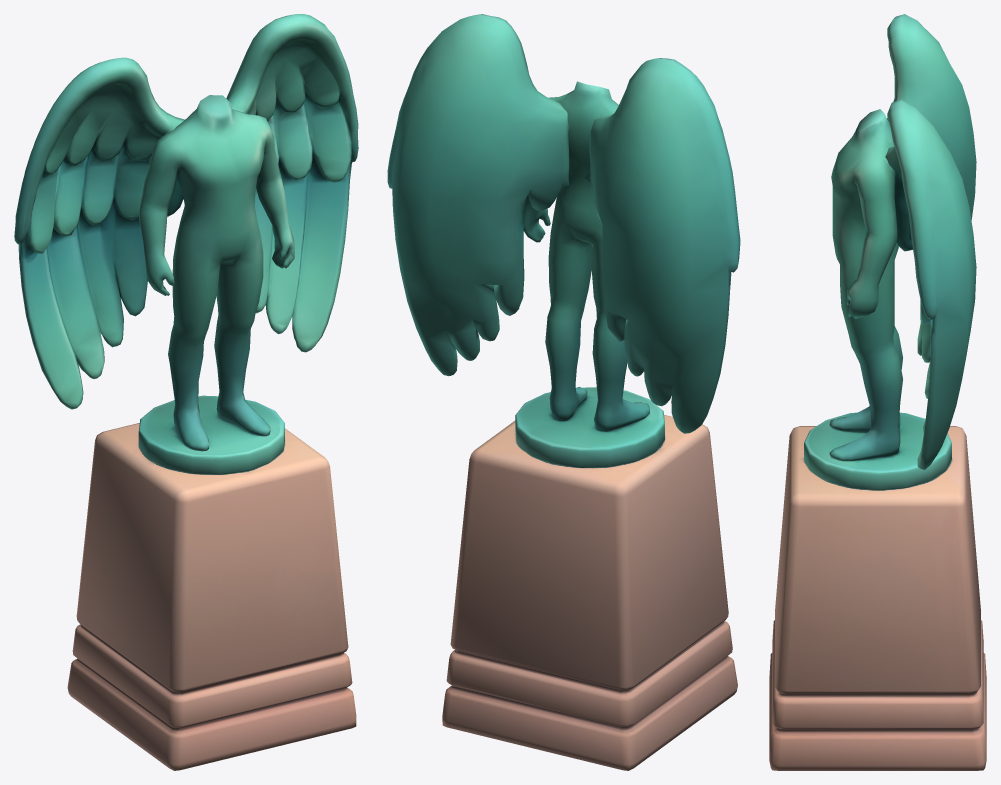
The model's file is StatueAnge.glb.
The picture shows the model from 3 angles, left to right: view 1: azimuth 30°, elevation 25°; view 2: azimuth 150°, elevation 25°; view 3: azimuth 270°, elevation 25°; orthographic projection. The views are drawn at different scales.
Visible parts, largest first — view 1: tripo_node_a28705b3-6a25-4002-b7d3-9c54fcb81afe; view 2: tripo_node_a28705b3-6a25-4002-b7d3-9c54fcb81afe; view 3: tripo_node_a28705b3-6a25-4002-b7d3-9c54fcb81afe.
Part boxes in pixels (left/top/right/bottom): tripo_node_a28705b3-6a25-4002-b7d3-9c54fcb81afe: left=14, top=14, right=358, bottom=770; tripo_node_a28705b3-6a25-4002-b7d3-9c54fcb81afe: left=387, top=14, right=740, bottom=770; tripo_node_a28705b3-6a25-4002-b7d3-9c54fcb81afe: left=769, top=14, right=986, bottom=770.
Bounding box in the file's own units: 0.5371 × 0.998 × 0.2949.
1 material, 1 textured.
